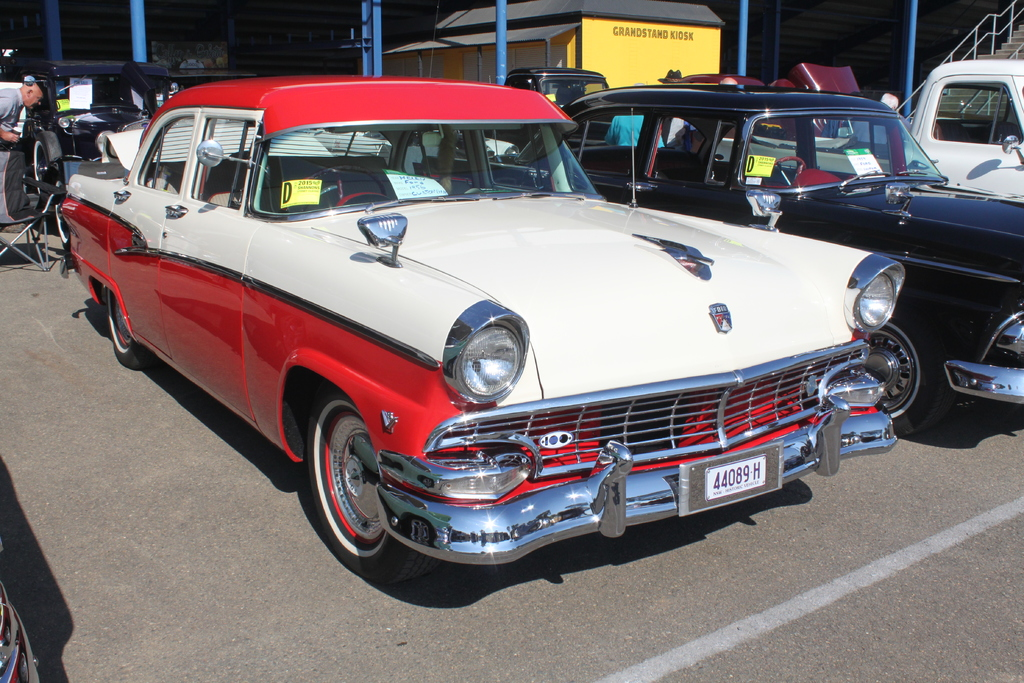Car: (0, 58, 1023, 591), (0, 584, 41, 682)
